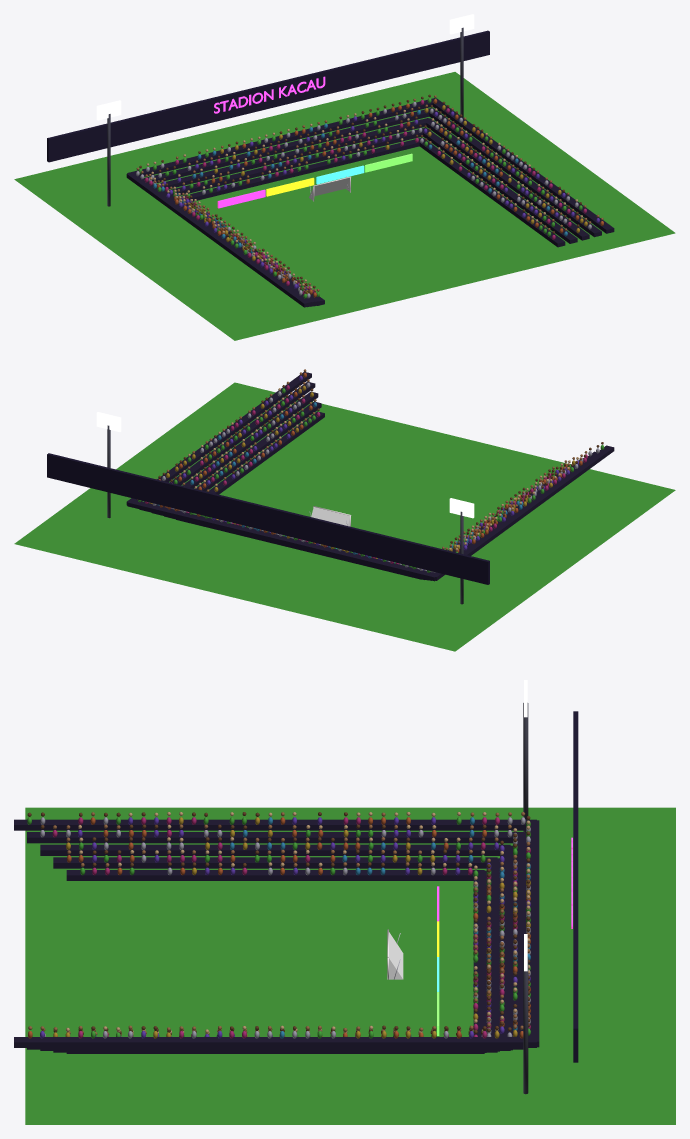
File: pitch.glb
3 views of the same model, one above another, from view 1: azimuth 30°, elevation 25°; view 2: azimuth 150°, elevation 25°; view 3: azimuth 270°, elevation 25° (orthographic). The views are drawn at different scales.
Parts seen in each view (by area): view 1: grass, m8.001, m9.001, crowd_1, crowd_6, crowd_kulit2, crowd_kulit1, crowd_0, crowd_kulit0, crowd_4, crowd_5, crowd_2 (+4 smaller); view 2: grass, m9.001, m8.001, crowd_1, crowd_6, m12.001, crowd_4, crowd_kulit1, crowd_kulit2, crowd_5, crowd_kulit0, crowd_0 (+3 smaller); view 3: grass, m8.001, crowd_kulit2, m9.001, crowd_kulit1, crowd_kulit0, crowd_6, crowd_1, crowd_4, crowd_0, crowd_5, m11.001 (+2 smaller).
Part boxes in pixels (left/top/right/bottom): grass: left=14, top=72, right=675, bottom=340; m8.001: left=126, top=98, right=614, bottom=307; m9.001: left=47, top=30, right=489, bottom=162; crowd_1: left=138, top=98, right=582, bottom=298; crowd_6: left=136, top=102, right=591, bottom=298; crowd_kulit2: left=139, top=94, right=581, bottom=293; crowd_kulit1: left=136, top=95, right=603, bottom=291; crowd_0: left=144, top=100, right=586, bottom=294; crowd_kulit0: left=146, top=108, right=582, bottom=288; crowd_4: left=157, top=99, right=603, bottom=297; crowd_5: left=160, top=111, right=599, bottom=290; crowd_2: left=190, top=105, right=587, bottom=293; grass: left=14, top=382, right=675, bottom=651; m9.001: left=47, top=453, right=489, bottom=584; m8.001: left=126, top=372, right=614, bottom=581; crowd_1: left=138, top=388, right=604, bottom=572; crowd_6: left=149, top=382, right=599, bottom=572; m12.001: left=96, top=412, right=474, bottom=518; crowd_4: left=137, top=372, right=582, bottom=558; crowd_kulit1: left=155, top=369, right=587, bottom=549; crowd_kulit2: left=158, top=385, right=603, bottom=544; crowd_5: left=171, top=375, right=578, bottom=570; crowd_kulit0: left=183, top=385, right=578, bottom=550; crowd_0: left=145, top=385, right=587, bottom=564; grass: left=25, top=807, right=675, bottom=1124; m8.001: left=14, top=819, right=539, bottom=1053; crowd_kulit2: left=27, top=812, right=530, bottom=1035; m9.001: left=573, top=711, right=578, bottom=1062; crowd_kulit1: left=28, top=812, right=530, bottom=1035; crowd_kulit0: left=66, top=812, right=530, bottom=1034; crowd_6: left=40, top=817, right=530, bottom=1038; crowd_1: left=27, top=817, right=530, bottom=1038; crowd_4: left=28, top=817, right=530, bottom=1038; crowd_0: left=52, top=817, right=530, bottom=1038; crowd_5: left=40, top=817, right=530, bottom=1038; m11.001: left=523, top=703, right=528, bottom=1094.
Bounding box in the file's own units: 60 × 13.47 × 52.9.
